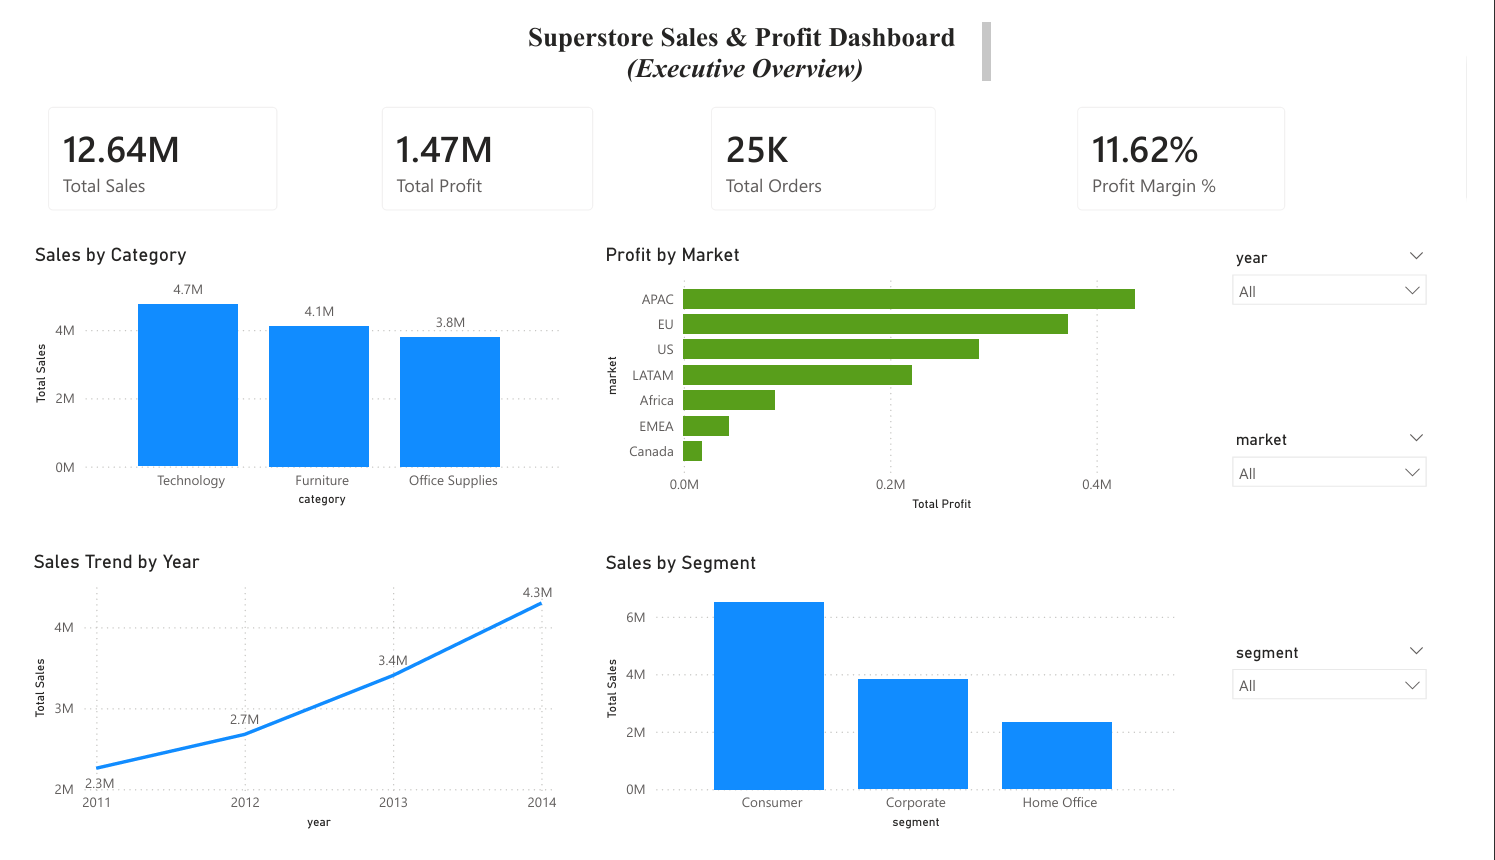

The page's visual inventory and layout, read from the dashboard file:
{"tool":"powerbi","page":{"name":"Executive Dashboard","canvas":[1280,727],"ordinal":0},"visuals":[{"type":"cardVisual","fields":{"Data":["SuperStoreOrders.Total Sales"]},"box":[1.3,63.3,238.3,126.5],"z":0},{"type":"cardVisual","fields":{"Data":["SuperStoreOrders.Total Profit"]},"box":[297.5,63.3,222.1,126.5],"z":1000},{"type":"cardVisual","fields":{"Data":["SuperStoreOrders.Total Orders"]},"box":[591,63.3,234.2,126.5],"z":2000},{"type":"cardVisual","fields":{"Data":["SuperStoreOrders.Profit Margin %"]},"box":[916.8,63.3,219.4,126.5],"z":3000},{"type":"clusteredColumnChart","title":"Sales by Category","fields":{"Category":["SuperStoreOrders.category"],"Y":["SuperStoreOrders.Total Sales"]},"box":[1.3,200.6,475.2,239.6],"z":4000},{"type":"clusteredBarChart","title":"Profit by Market","fields":{"Category":["SuperStoreOrders.market"],"Y":["SuperStoreOrders.Total Profit"]},"box":[508.9,200.6,553.3,243.7],"z":5000},{"type":"lineChart","title":"Sales Trend by Year","fields":{"Category":["SuperStoreOrders.year"],"Y":["SuperStoreOrders.Total Sales"]},"box":[0,473.9,475.2,253.1],"z":6000},{"type":"clusteredColumnChart","title":"Sales by Segment","fields":{"Category":["SuperStoreOrders.segment"],"Y":["SuperStoreOrders.Total Sales"]},"box":[508.9,475.2,517,251.7],"z":7000},{"type":"slicer","fields":{"Values":["SuperStoreOrders.year"]},"box":[1062.2,200.6,192.5,144],"z":8000},{"type":"slicer","fields":{"Values":["SuperStoreOrders.market"]},"box":[1062.2,363.5,192.5,160.2],"z":8001},{"type":"slicer","fields":{"Values":["SuperStoreOrders.segment"]},"box":[1062.2,552,192.5,129.2],"z":8002},{"type":"textbox","box":[416,0,447,63.3],"z":8003}]}

Visuals, with their boxes in screenshot pixels (x1, y1, x2, y2), scaled from the page's 1280x727 canvas onto the 1495x860 screenshot:
cardVisual - SuperStoreOrders.Total Sales: 2,75,280,225
cardVisual - SuperStoreOrders.Total Profit: 347,75,607,225
cardVisual - SuperStoreOrders.Total Orders: 690,75,964,225
cardVisual - SuperStoreOrders.Profit Margin %: 1071,75,1327,225
"Sales by Category" clusteredColumnChart: 2,237,557,521
"Profit by Market" clusteredBarChart: 594,237,1241,526
"Sales Trend by Year" lineChart: 0,561,555,859
"Sales by Segment" clusteredColumnChart: 594,562,1198,859
slicer - SuperStoreOrders.year: 1241,237,1465,408
slicer - SuperStoreOrders.market: 1241,430,1465,620
slicer - SuperStoreOrders.segment: 1241,653,1465,806
textbox: 486,0,1008,75
